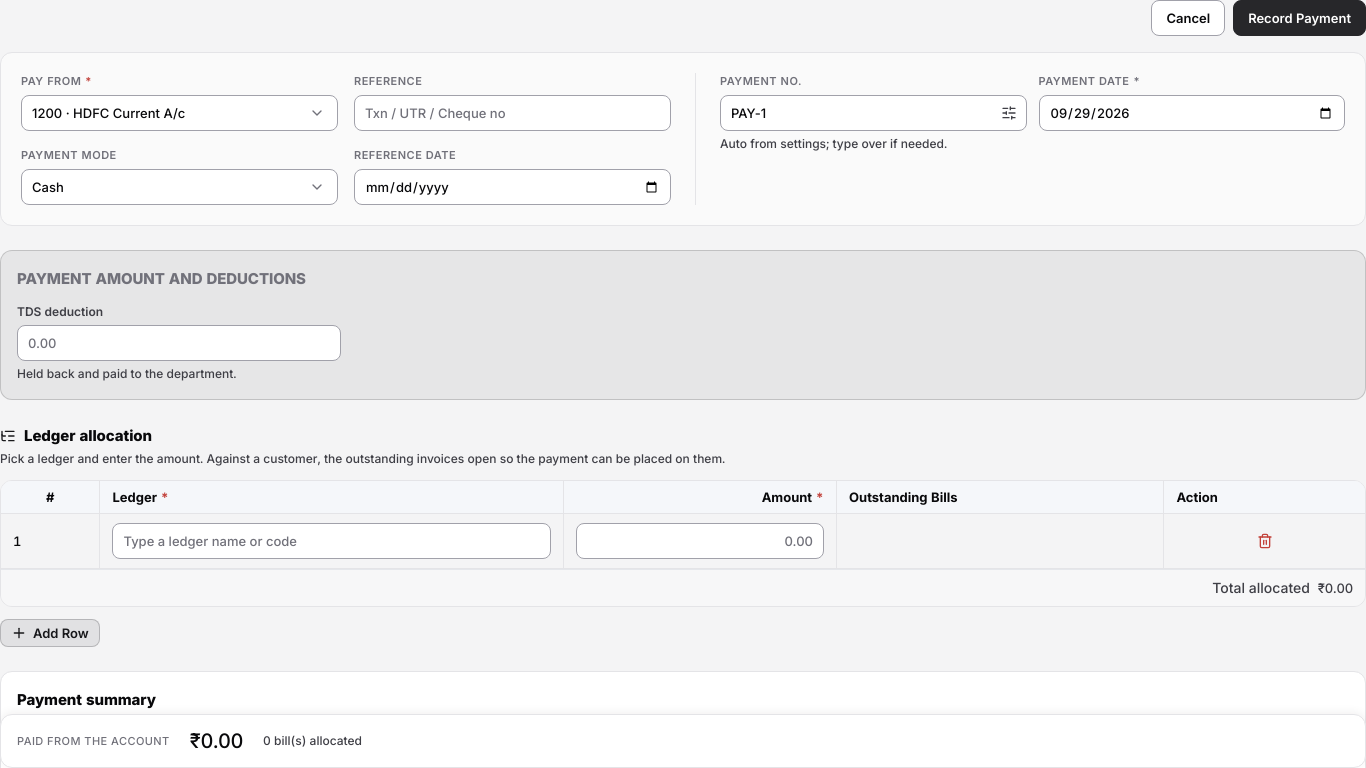
what the payment offers to deduct › suggests the engine’s figure for a bill that never deducted
Type "Steel" into the dropdown named "Account, allocation row 1" at {"x": 332, "y": 541}, box [112,523,551,559]
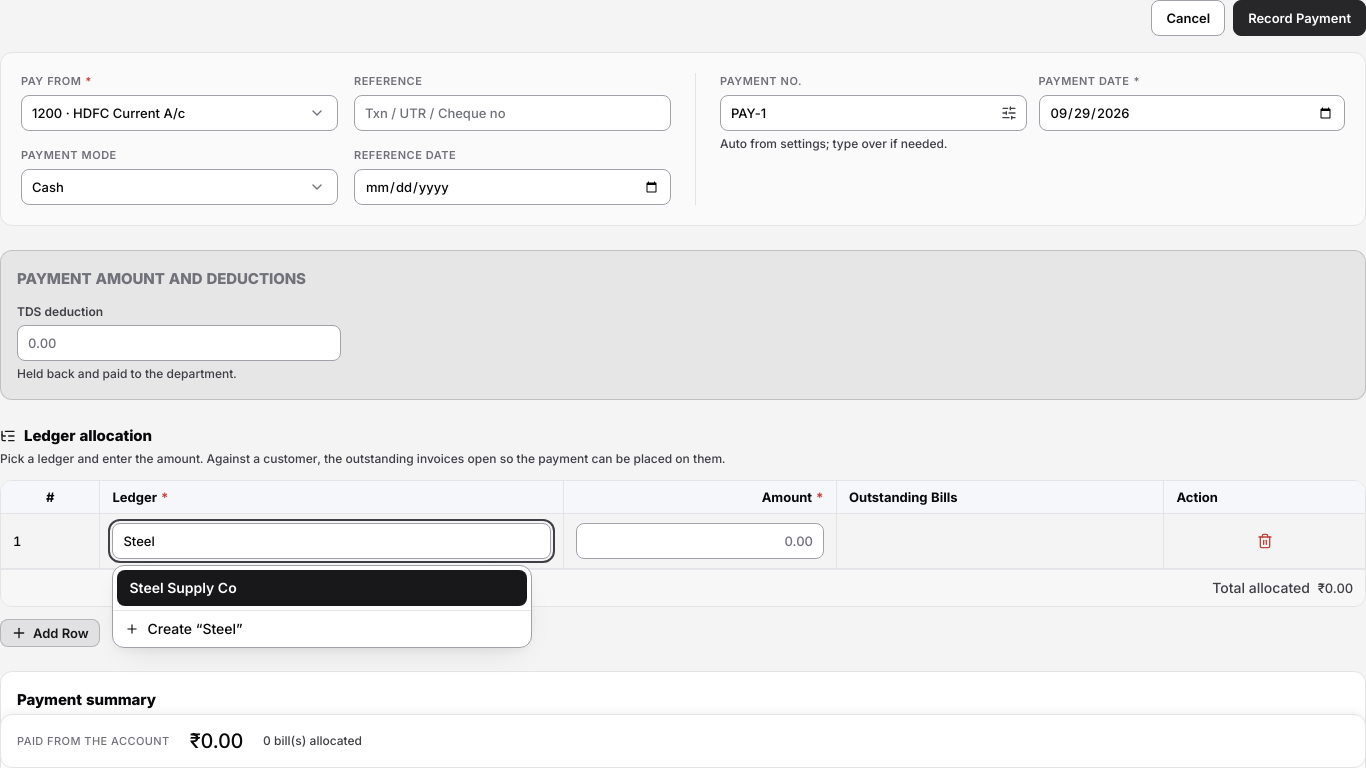
Click the option "Steel Supply Co" at {"x": 183, "y": 588}, box [118,570,528,606]
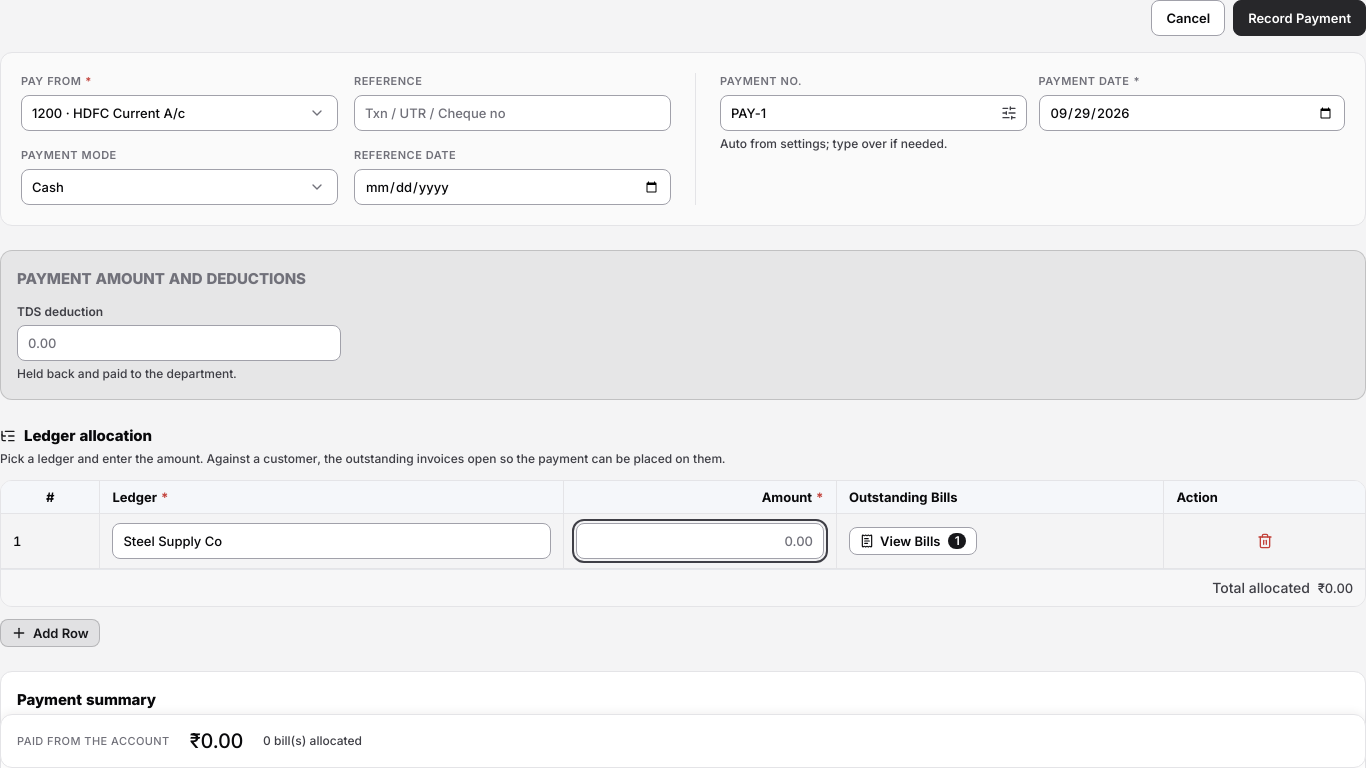
Type "118000" into the number field named "Amount, allocation row 1" at {"x": 700, "y": 541}, box [576,523,824,559]
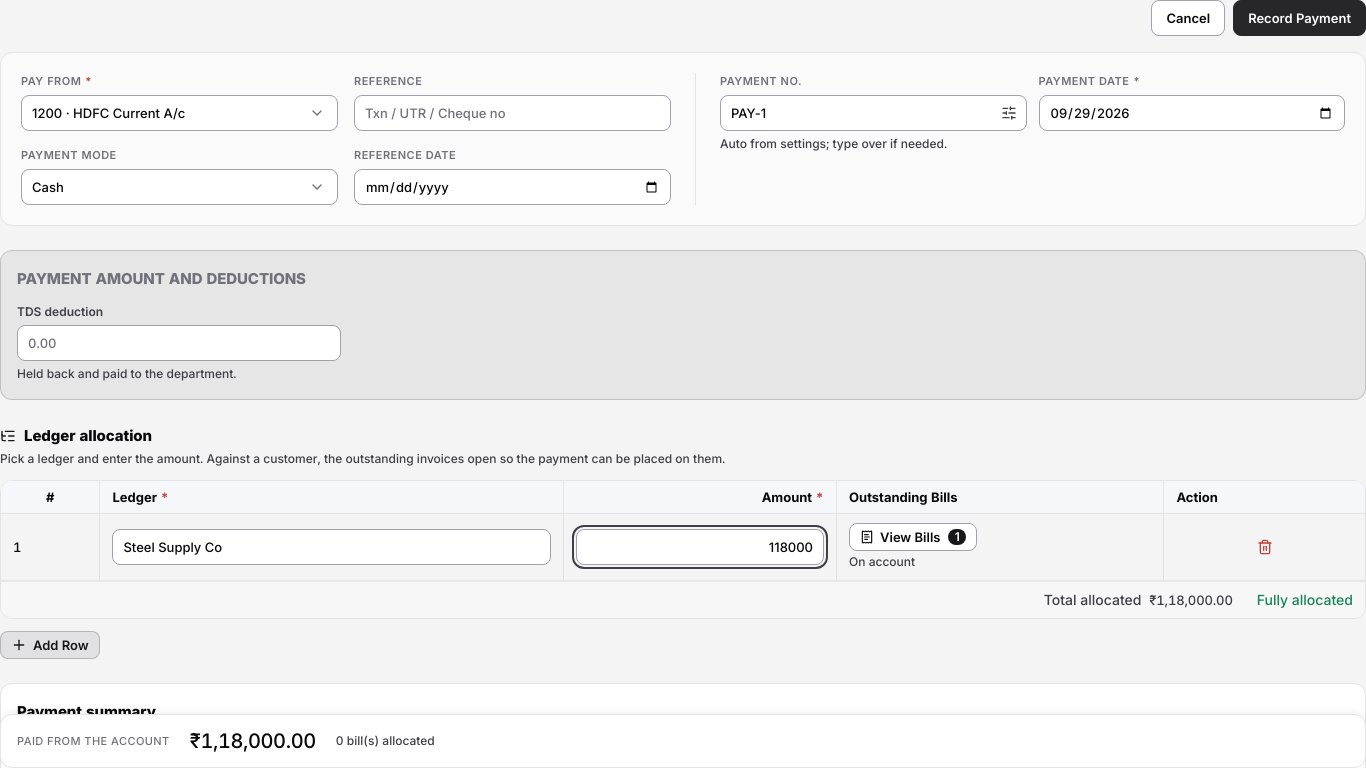
Click the button "View Bills 1" at {"x": 913, "y": 537}, box [849,523,978,551]
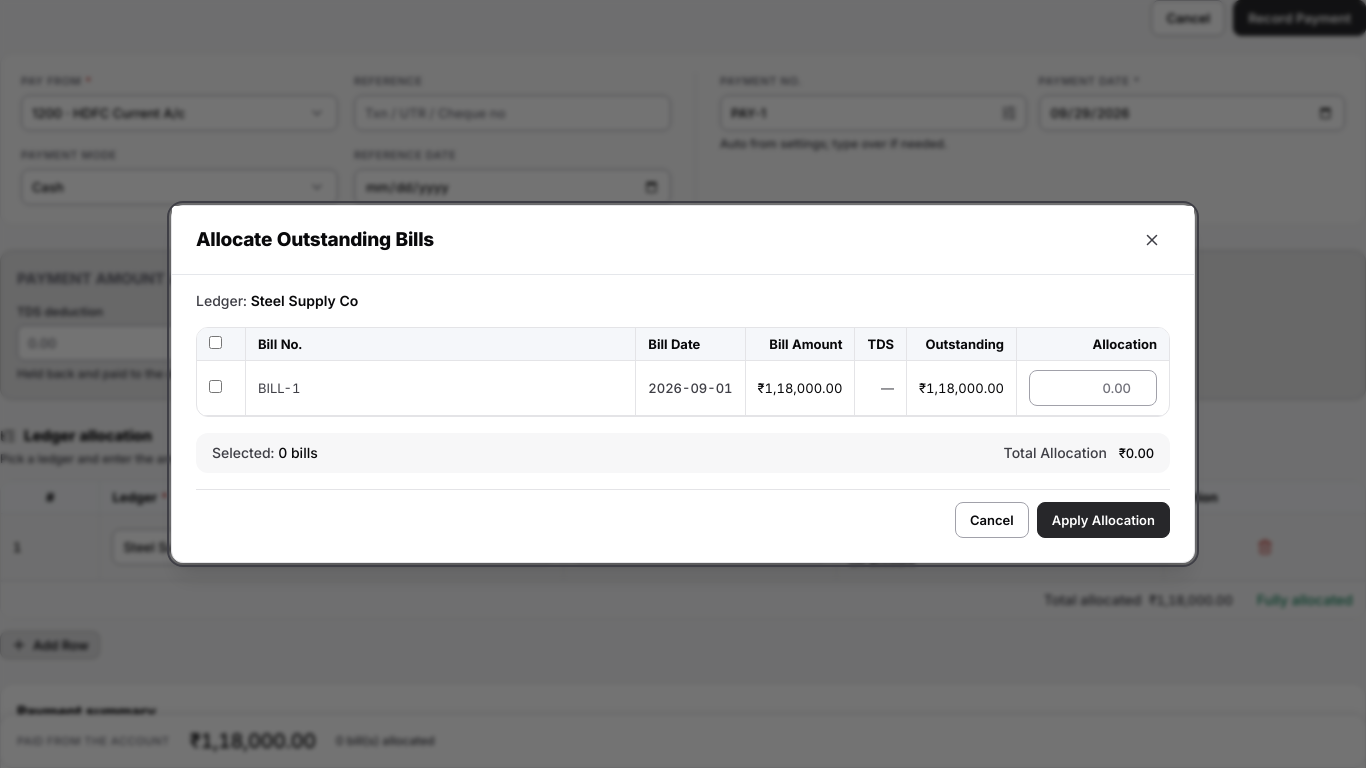
Click the checkbox named "Allocate against BILL-1" at {"x": 216, "y": 386}, box [209,380,222,393]
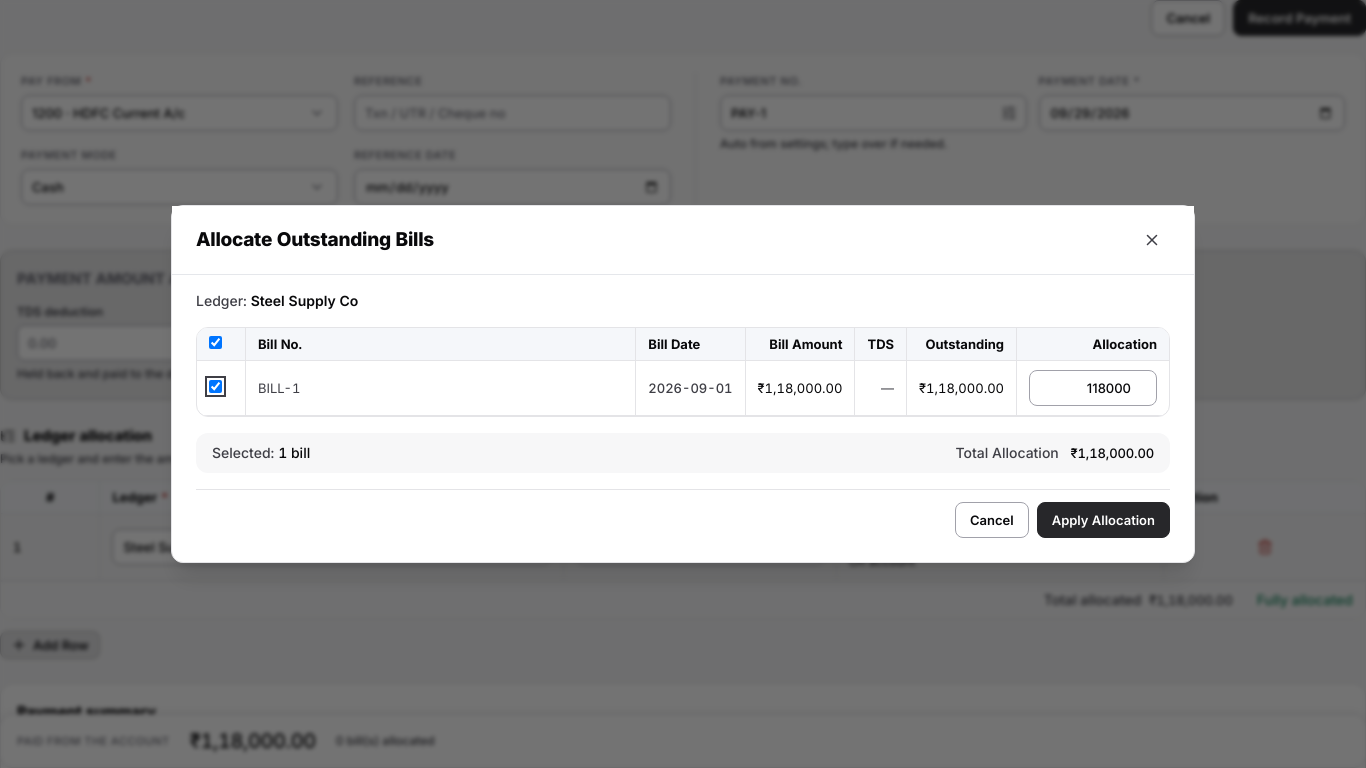
Click the button "Apply Allocation" at {"x": 1103, "y": 520}, box [1037,502,1170,538]
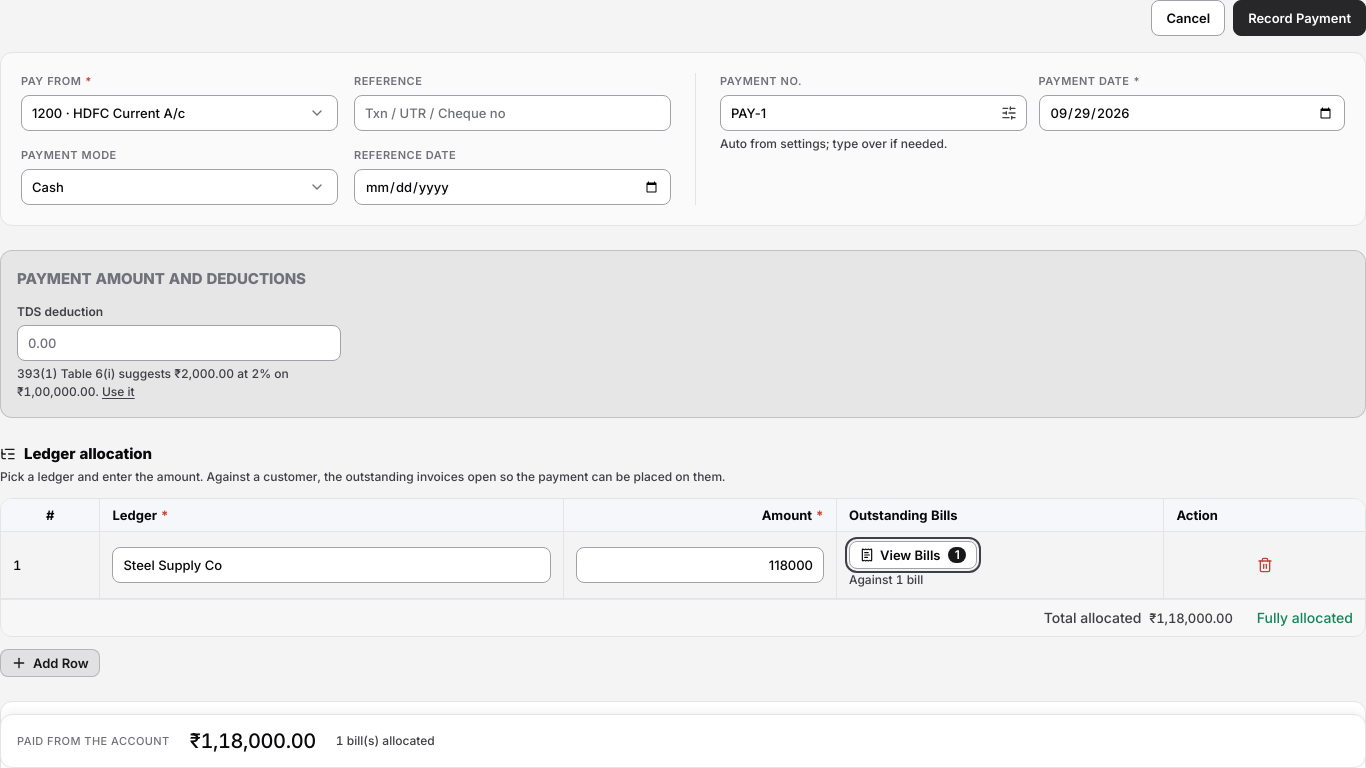
expect the text "suggests ₹2,000.00 at 2% on ₹1,00,000.00" is shown: met, box [17,366,289,401]
